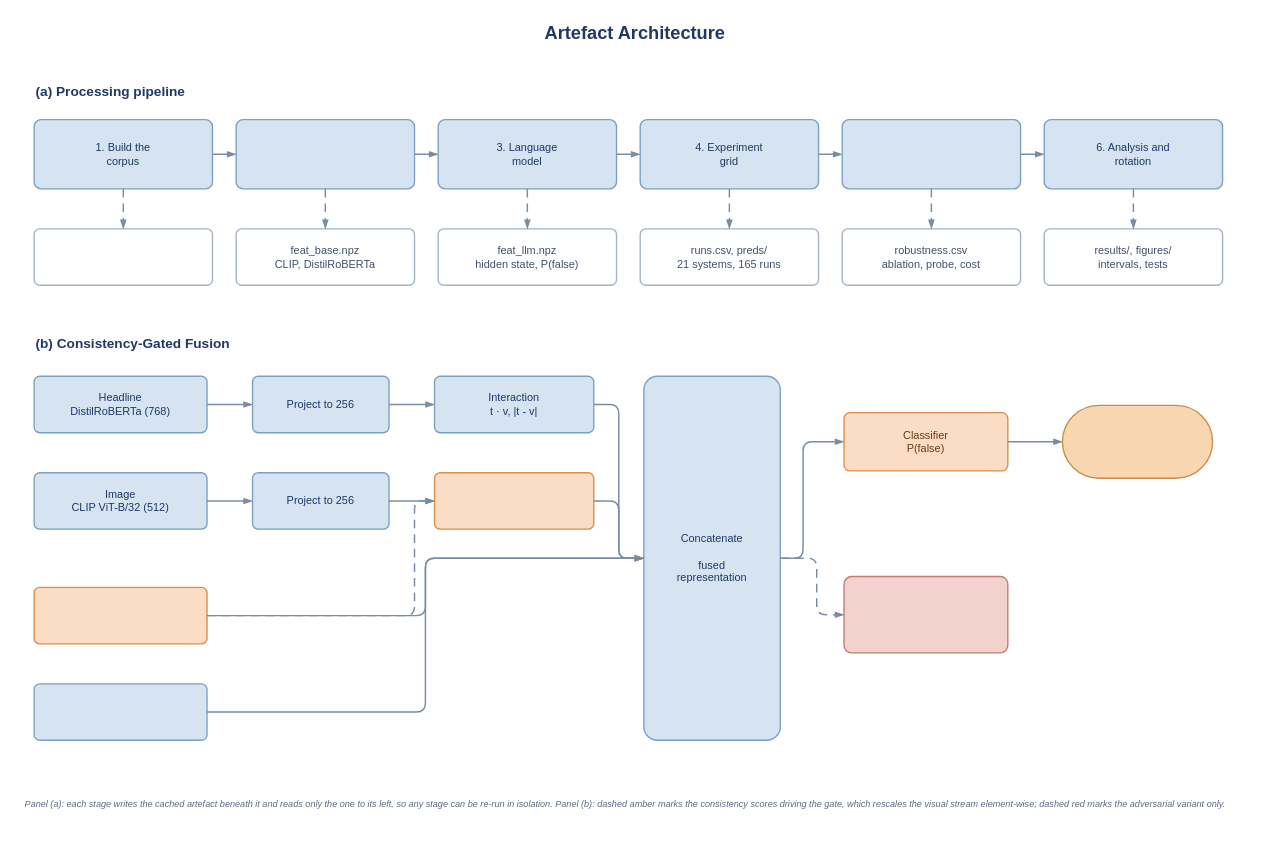
Image size: 1269x848. Some labels were removed from this diagram. The centre of each missing label's shape, as x and y in pixels:
"2. Frozen encoders" goes at (325,154).
"5. Robustness suite" goes at (931,154).
"Calibrated probability and readable gate" goes at (1137,441).
"Consistency gate sigmoid mask" goes at (513,500).
"Consistency scores cosine, batch rank" goes at (120,615).
"corpus.parquet 21,798 posts" goes at (123,257).
"Gradient reversal source-community adversary" goes at (925,614).
"Metadata nine features" goes at (120,712).
